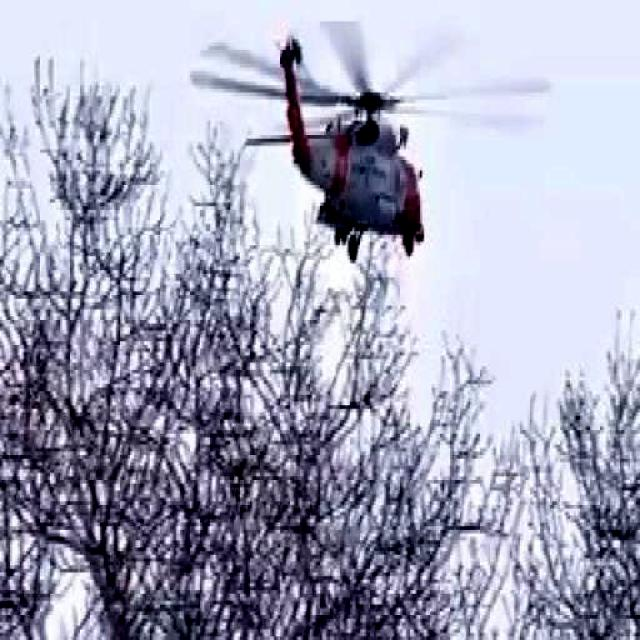drone: (242, 0, 505, 270)
